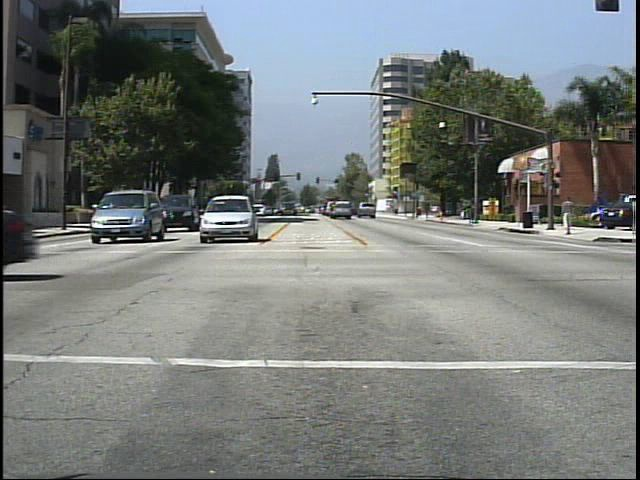person: (561, 194, 578, 239)
